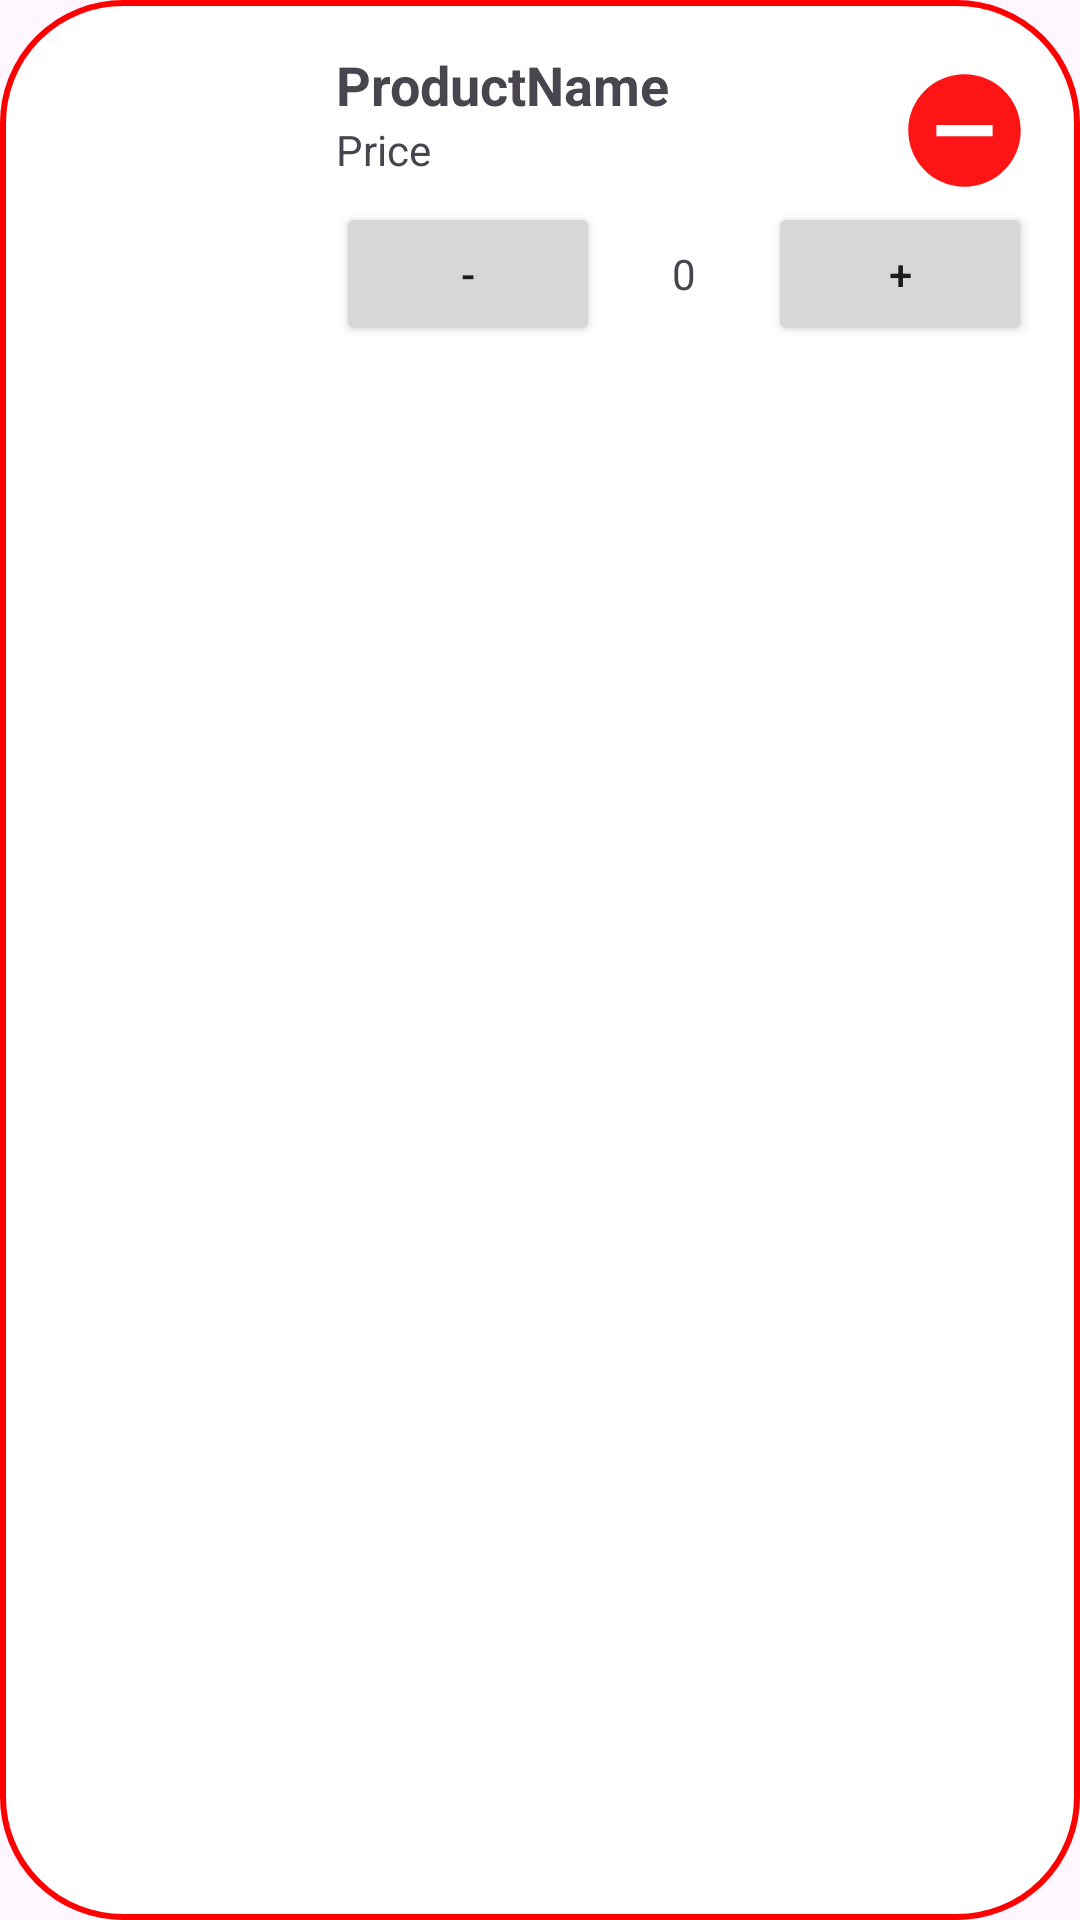

Icons on this 1080 x 1920 Android screen, each with its box as (x1, y1, x2, y2):
remove: (908, 74, 1021, 187)
